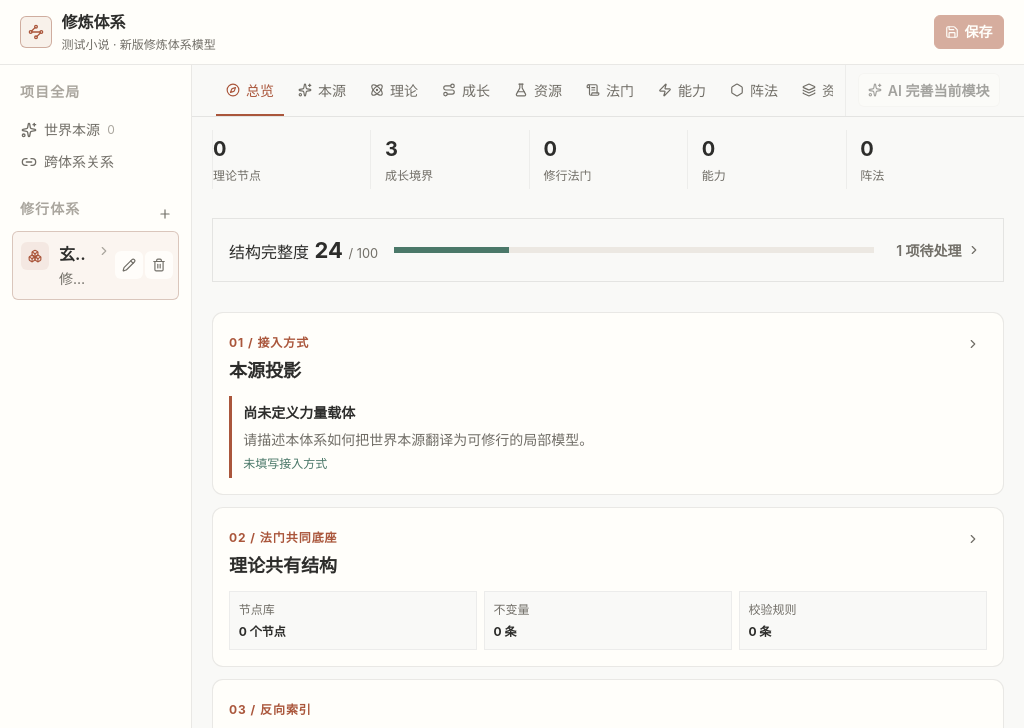
Test: CultivationEcologyWorkbench 境界检查器 › 空的转换和交叉规则页签不会回跳到境界图
Click the button "成长". click: (466, 90)
box: [432, 65, 500, 116]
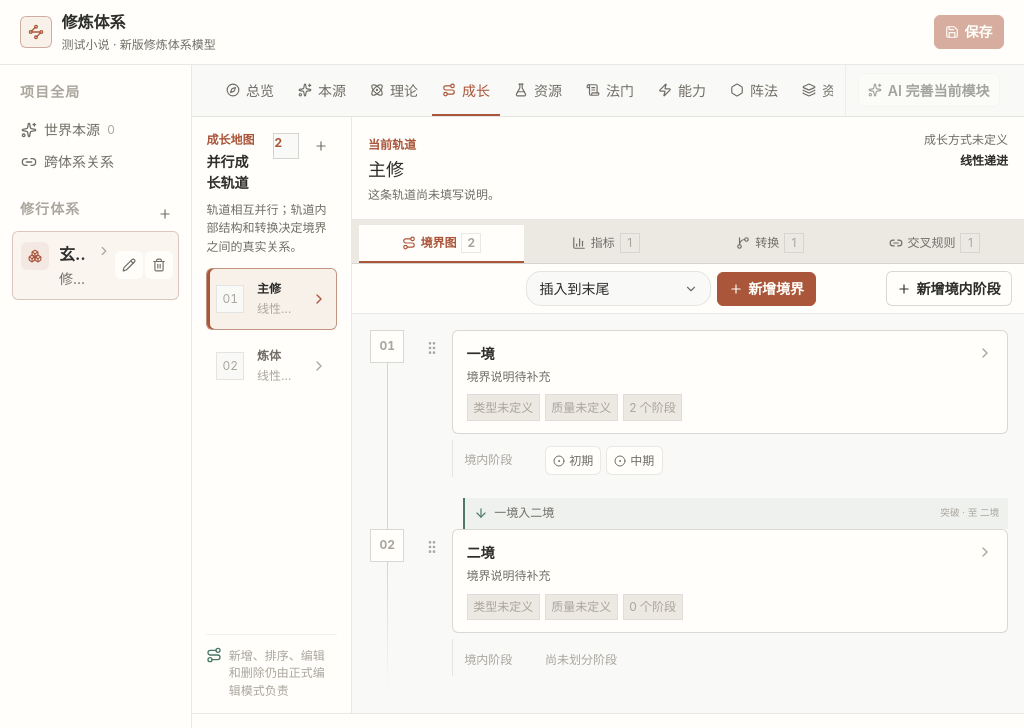
Click the button titled "新增并行轨道". click: (321, 146)
box: [306, 131, 337, 161]
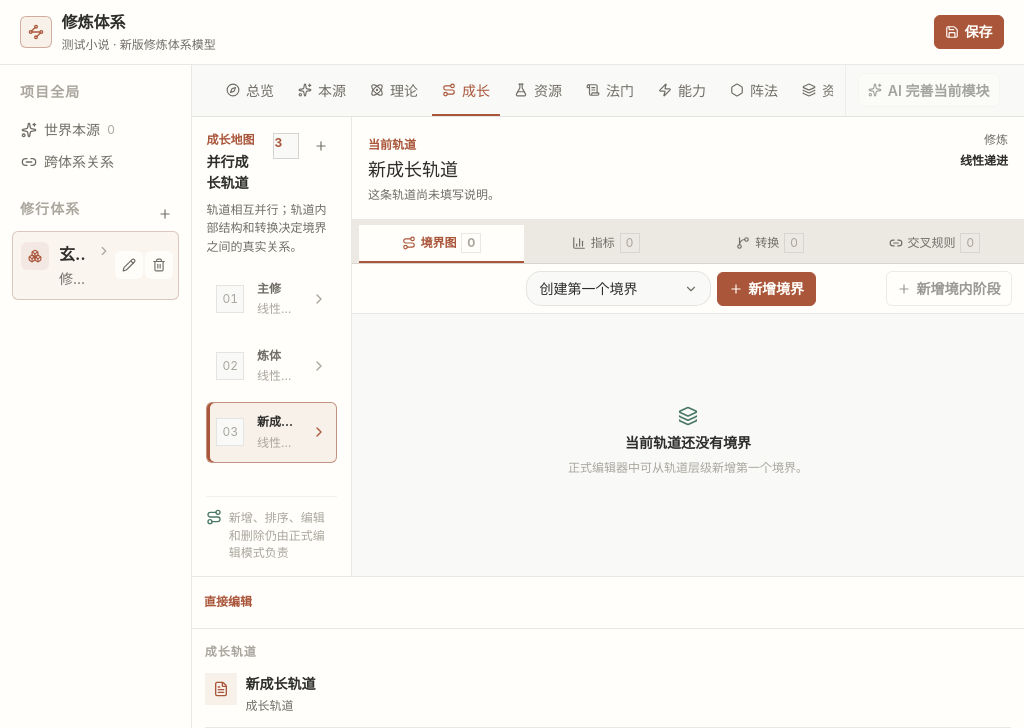
Click the tab "转换 0". click: (770, 244)
box: [688, 225, 852, 263]
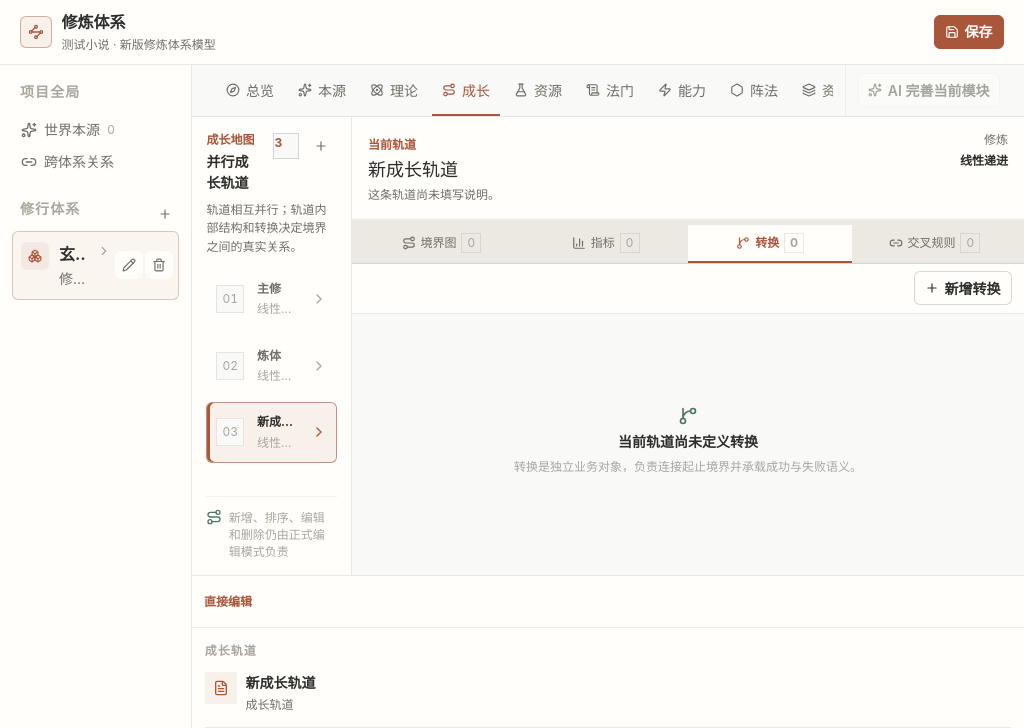
Expected: the text "当前轨道尚未定义转换" is shown, [618, 431, 758, 452]
Click the tab "交叉规则 0". click: (935, 244)
box: [852, 225, 1017, 263]
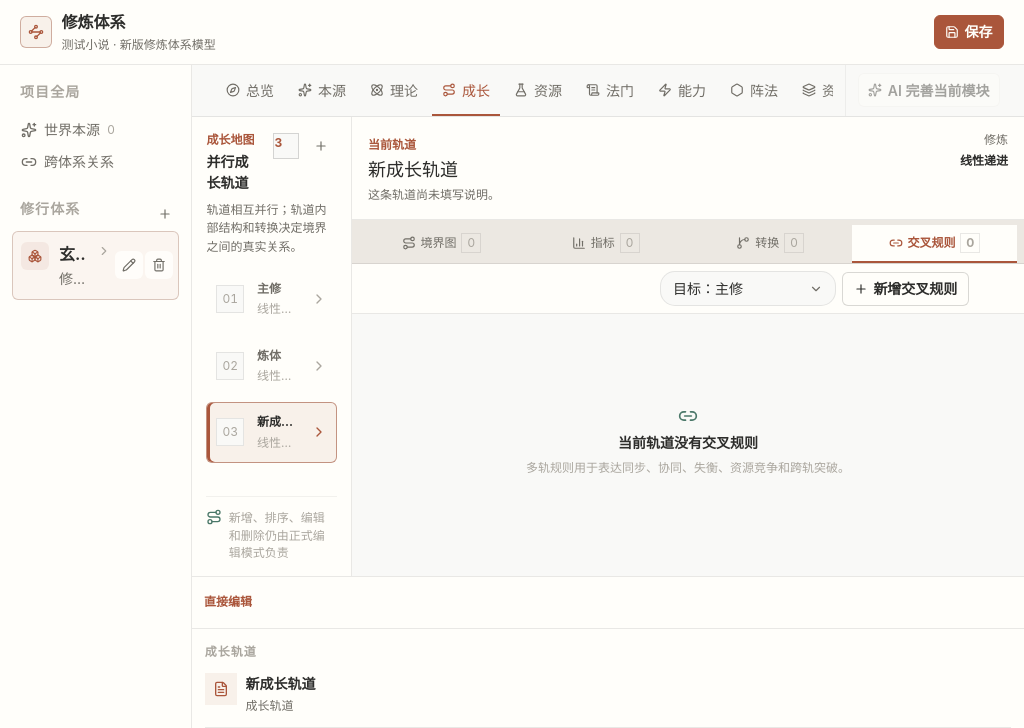
Expected: the text "当前轨道没有交叉规则" is shown, [618, 432, 758, 453]
